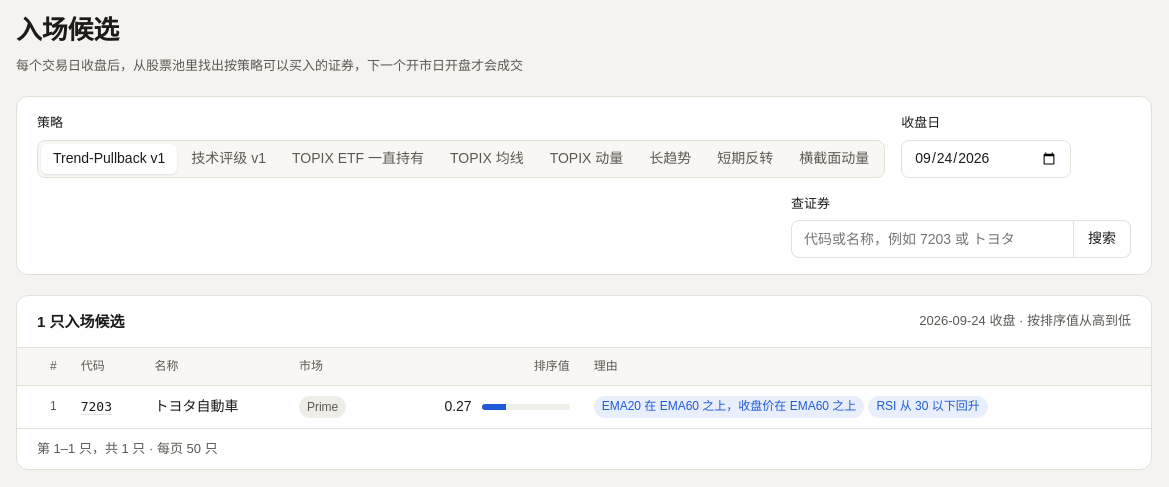
信号页 › TOPIX 动量在月中写明空仓的话不会买入 1306，在判断日的候选理由是 TOPIX 过去收益为正
The width and height of the screenshot is (1169, 487).
Expected: the table named "入场候选" is shown, [17,348,1151,428]
Click the button "TOPIX 动量" at (586, 159), box [538,144,635,174]
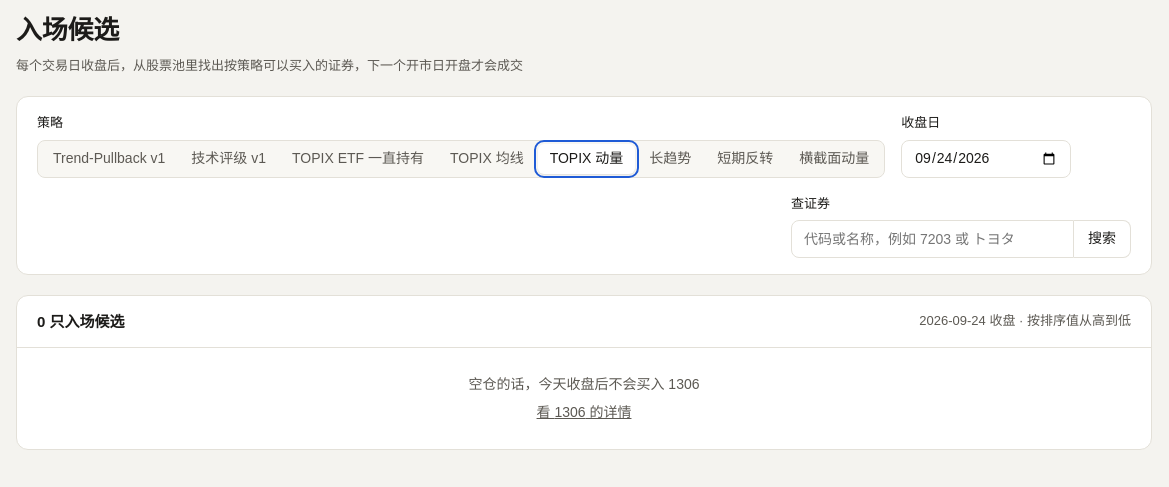
Result: the text "空仓的话，今天收盘后不会买入 1306" is shown at [468,374,700,396]
Type "2026-09-01" into the date field labelled "收盘日" at (986, 159), box [901,140,1071,178]
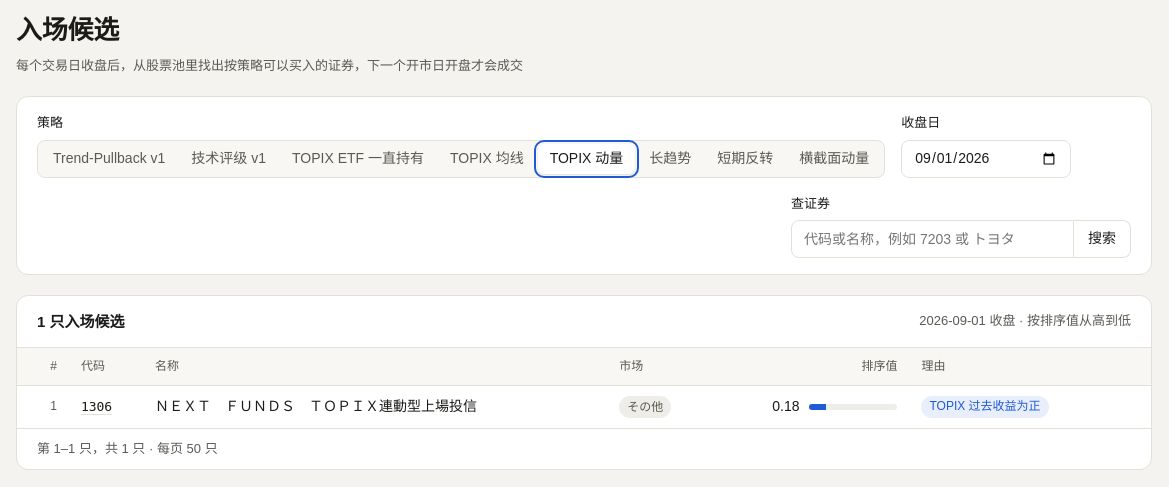
Result: the text "0.18" is shown at [709,385,910,428]
